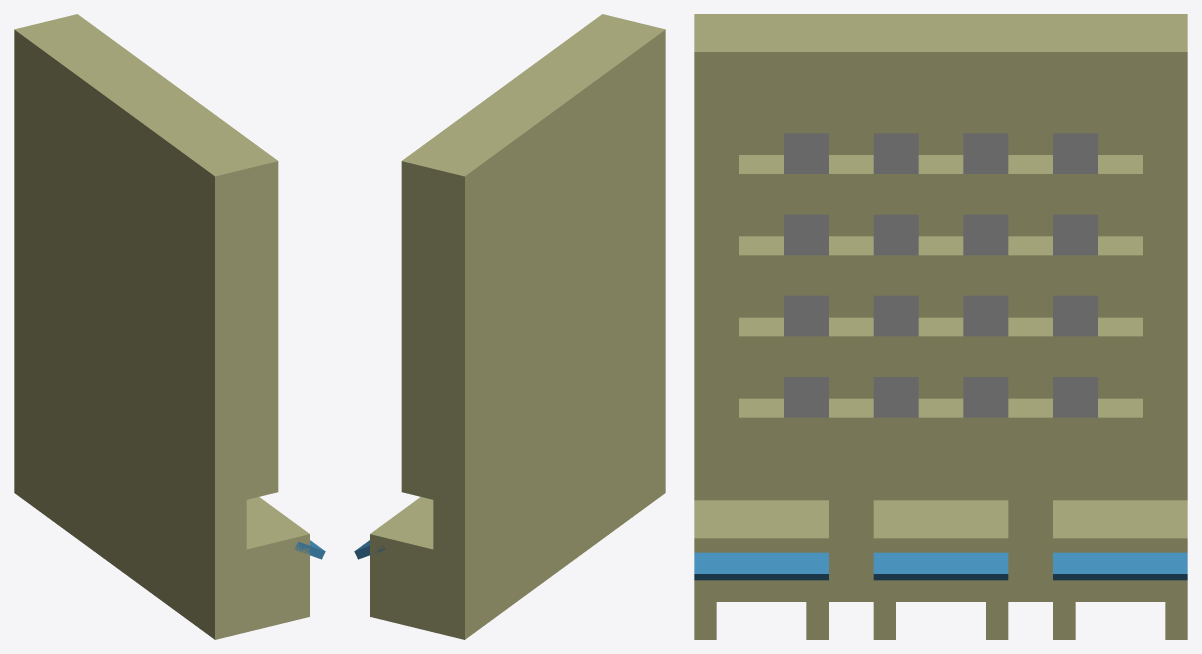
File: Building2_modular.fbx
3 views of the same model, side by side, from view 1: azimuth 30°, elevation 25°; view 2: azimuth 150°, elevation 25°; view 3: azimuth 270°, elevation 25° (orthographic). The views are drawn at different scales.
Parts seen in each view (by area): view 1: StallHouse, StallHouse__10_, StallHouse__12_, StallHouse__1_, StallHouse__2_, StallHouse__11_; view 2: StallHouse, StallHouse__11_, StallHouse__12_, StallHouse__6_, StallHouse__5_, StallHouse__10_; view 3: StallHouse, StallHouse__12_, StallHouse__13_, StallHouse__17_, StallHouse__19_, StallHouse__15_, StallHouse__10_, StallHouse__11_, StallHouse__21_, StallHouse__8_, StallHouse__2_, StallHouse__5_ (+25 smaller).
Part boxes in pixels (x1,y1,x2,y2): StallHouse: (14, 21, 246, 639); StallHouse__10_: (229, 148, 278, 499); StallHouse__12_: (64, 27, 259, 155); StallHouse__1_: (246, 551, 309, 631); StallHouse__2_: (246, 497, 309, 565); StallHouse__11_: (46, 14, 95, 34); StallHouse: (433, 21, 665, 639); StallHouse__11_: (401, 148, 450, 499); StallHouse__12_: (420, 27, 615, 155); StallHouse__6_: (370, 550, 433, 631); StallHouse__5_: (370, 497, 433, 565); StallHouse__10_: (584, 14, 633, 34); StallHouse: (694, 14, 1187, 601); StallHouse__12_: (739, 33, 1142, 92); StallHouse__13_: (739, 398, 1142, 458); StallHouse__17_: (739, 236, 1142, 295); StallHouse__19_: (739, 155, 1142, 214); StallHouse__15_: (739, 317, 1142, 376); StallHouse__10_: (694, 33, 738, 458); StallHouse__11_: (1143, 33, 1187, 458); StallHouse__21_: (739, 92, 1142, 133); StallHouse__8_: (873, 500, 1008, 552); StallHouse__2_: (694, 500, 828, 552); StallHouse__5_: (1053, 500, 1187, 552).
Size of the model in its own units: 350 by 1400 by 1100.
